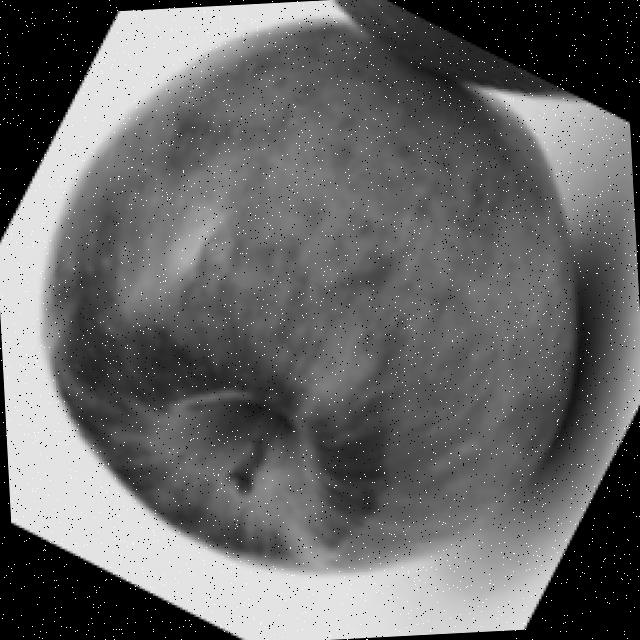Ripe: (13, 0, 600, 591)
